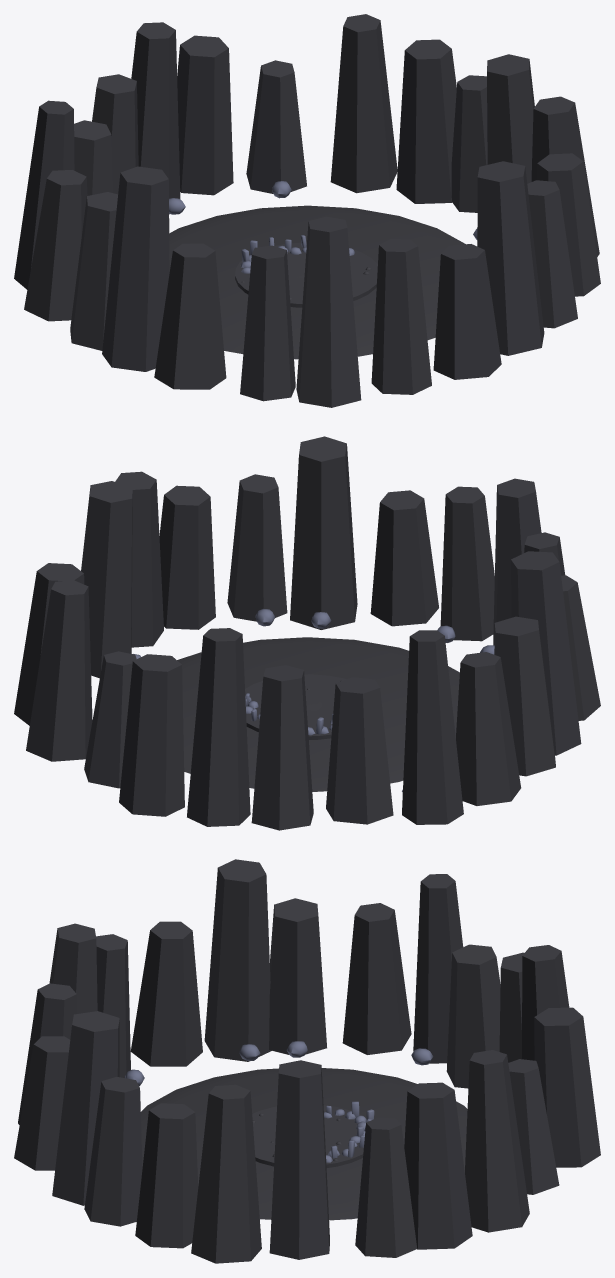
File: gloom_moth.glb
3 renders of one model, top to bottom at view 1: azimuth 30°, elevation 25°; view 2: azimuth 150°, elevation 25°; view 3: azimuth 270°, elevation 25°, orthographic.
Visible parts, largest first — view 1: GloomMothGround; view 2: GloomMothGround; view 3: GloomMothGround.
Part boxes in pixels (x1,y1,x2,y2): GloomMothGround: [14, 14, 600, 407]; GloomMothGround: [14, 436, 600, 830]; GloomMothGround: [14, 859, 600, 1263].
Size of the model in its own units: 46.53 by 16.55 by 48.09.
Materials: 1 (1 with a texture image).
